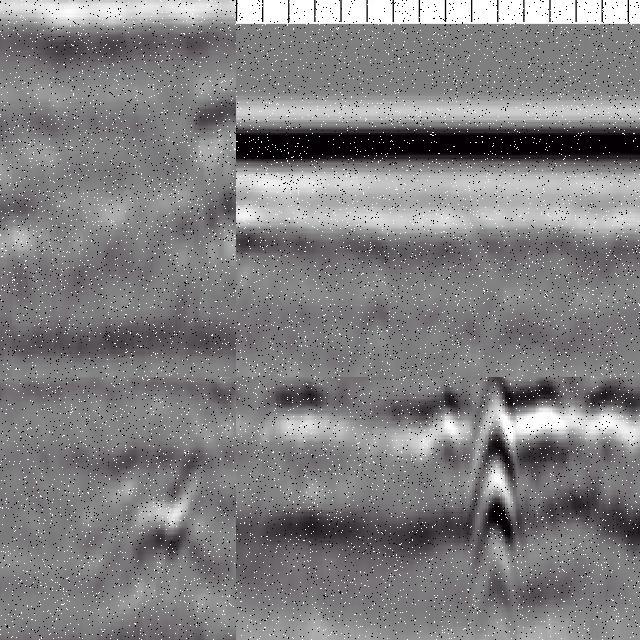loose: (430, 378, 640, 614), (110, 434, 237, 577)
